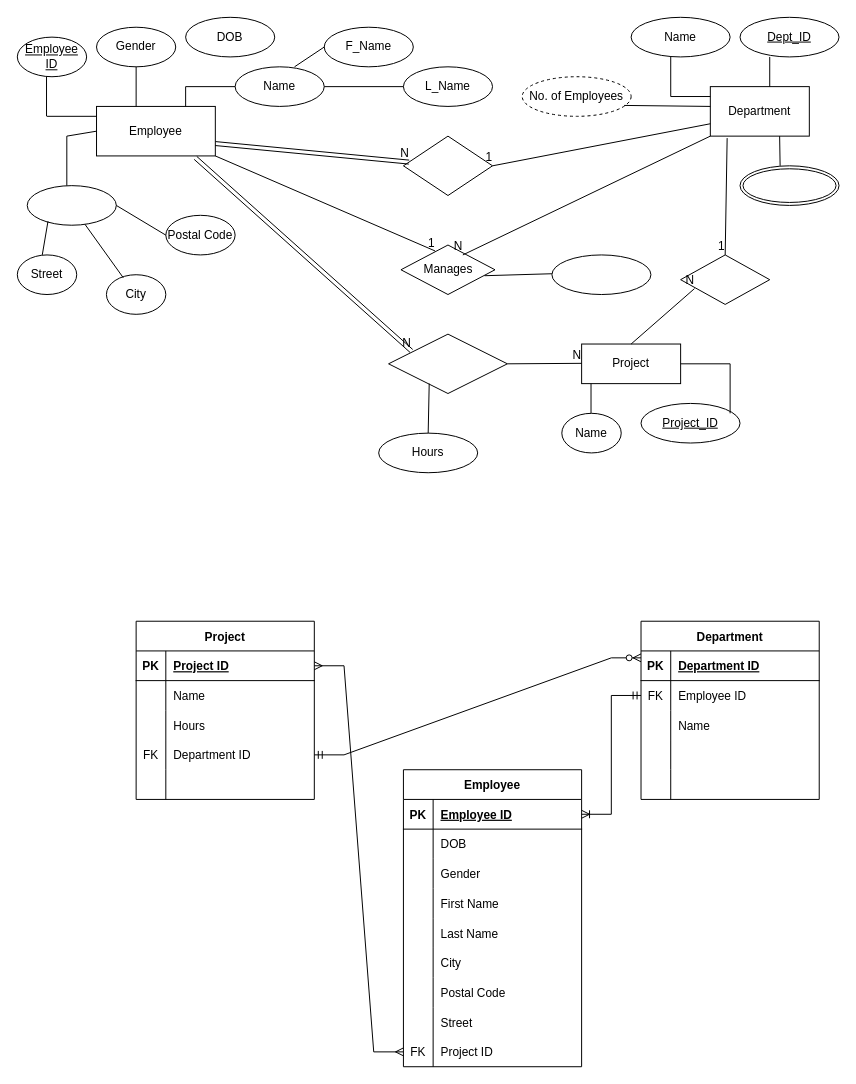
The diagram is 856 pixels wide and 1084 high, and some of its shapes have lost their labels. The box of each missing label's shape, as (x1, y1, x2, y2) in pixels:
Address: (26, 185, 116, 225)
Controls: (680, 254, 770, 304)
Locations: (739, 165, 839, 205)
Start Date: (551, 254, 651, 295)
Works For: (402, 135, 493, 196)
Works On: (388, 333, 507, 394)
